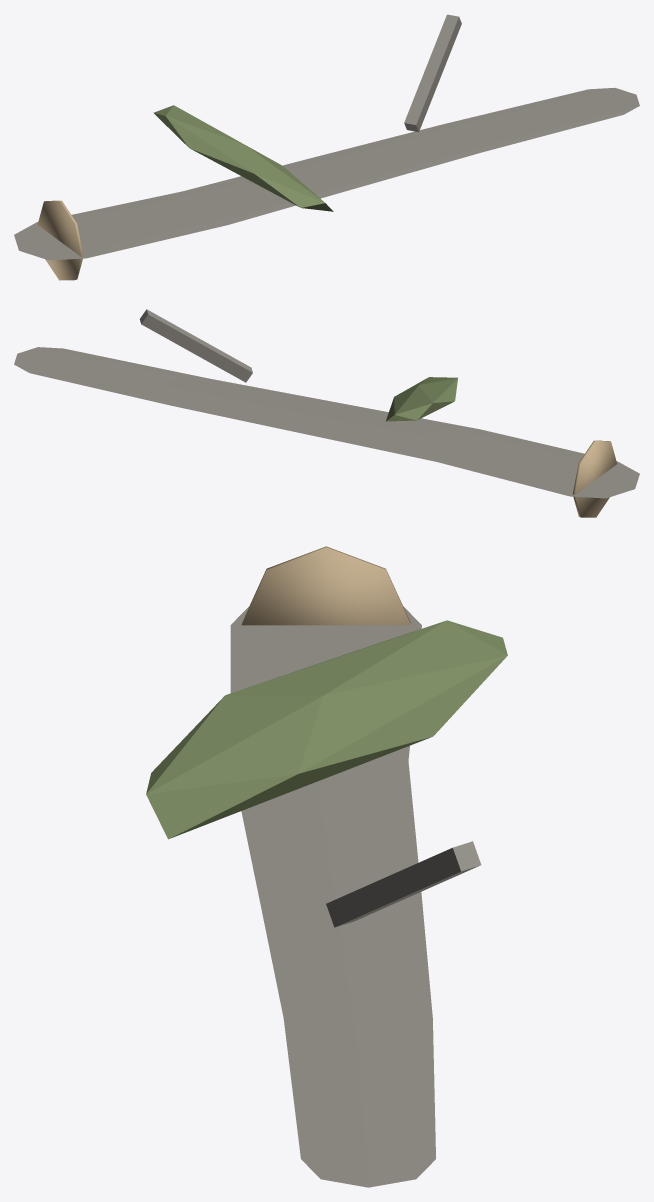
The model's file is v_log.glb.
3 views of the same model, one above another, from view 1: azimuth 30°, elevation 25°; view 2: azimuth 150°, elevation 25°; view 3: azimuth 270°, elevation 25° (orthographic). The views are drawn at different scales.
Visible parts, largest first — view 1: Log; view 2: Log; view 3: Log.
Part boxes in pixels (<box>): Log: <box>14,14,639,280</box>; Log: <box>14,309,639,517</box>; Log: <box>146,546,507,1187</box>.
Size of what is drawn, in the model's own units: 4.98 by 1.02 by 1.29.
